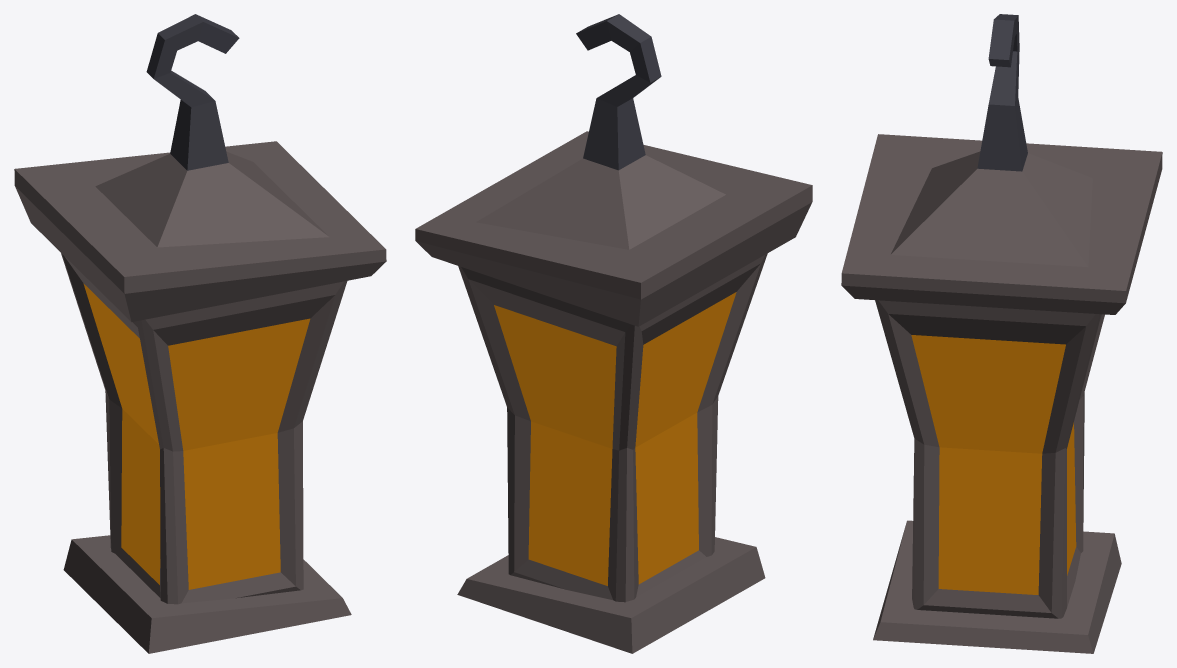
The model's file is HWN20_Lamp_02.glb.
The picture shows the model from 3 angles, left to right: view 1: azimuth 30°, elevation 25°; view 2: azimuth 150°, elevation 25°; view 3: azimuth 270°, elevation 25°; orthographic projection.
Visible parts, largest first — view 1: HWN20_Lamp_02; view 2: HWN20_Lamp_02; view 3: HWN20_Lamp_02.
Part boxes in pixels (left/top/right/bottom): HWN20_Lamp_02: left=14, top=14, right=386, bottom=653; HWN20_Lamp_02: left=415, top=14, right=812, bottom=653; HWN20_Lamp_02: left=841, top=14, right=1162, bottom=653.
Size of what is drawn, in the model's own units: 0.412 by 0.8236 by 0.4118.
Materials: 2 (2 with a texture image).
